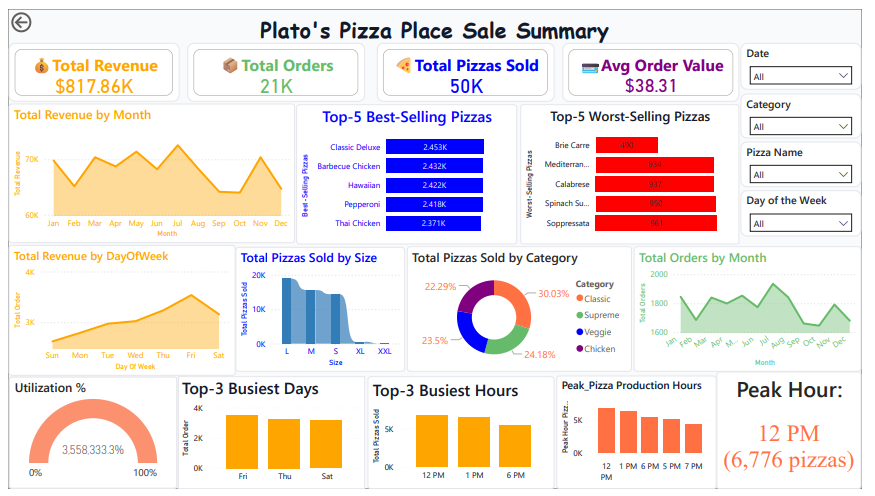

The page's visual inventory and layout, read from the dashboard file:
{"tool":"powerbi","page":{"name":"Page 1","canvas":[1280,720],"ordinal":0},"visuals":[{"type":"shape","box":[0,0,1280.2,720],"z":0},{"type":"textbox","box":[135.9,4.5,1008.3,71.7],"z":1000},{"type":"cardVisual","fields":{"Data":["order_details.Total Revenue"]},"box":[1.5,50.8,255.4,88.1],"z":2000},{"type":"slicer","title":"Date","fields":{"Values":["orders.Date"]},"box":[1097.9,50.8,180.7,70.2],"z":3000},{"type":"cardVisual","fields":{"Data":["order_details.Total Orders"]},"box":[268.9,50.8,265.9,88.1],"z":4000},{"type":"cardVisual","fields":{"Data":["order_details.Total Pizzas"]},"box":[552.7,50.8,265.9,88.1],"z":5000},{"type":"cardVisual","fields":{"Data":["order_details.💳Average Order Value"]},"box":[830.5,50.8,265.9,88.1],"z":6000},{"type":"lineChart","title":"Total Revenue by Month","fields":{"Y":["order_details.Total Revenue"],"Category":["orders.Month"]},"box":[1.5,141.9,428.7,209.1],"z":7000},{"type":"donutChart","fields":{"Category":["pizza_types (2).Category"],"Y":["order_details.Total Pizzas"]},"box":[597.5,355.5,337.6,188.2],"z":8000},{"type":"barChart","title":"Top-5 Best-Selling Pizzas","fields":{"Category":["pizza_types.Pizza Name"],"Y":["order_details.Total Pizzas"]},"box":[431.7,143.4,331.6,209.1],"z":9000},{"type":"barChart","title":"Top-5 Worst-Selling Pizzas","fields":{"Category":["pizza_types.Pizza Name"],"Y":["order_details.Total Pizzas"]},"box":[767.8,143.4,328.6,209.1],"z":10000},{"type":"ribbonChart","fields":{"Y":["order_details.Total Pizzas"],"Category":["pizzas.Size"]},"box":[340.6,357,253.9,186.7],"z":11000},{"type":"gauge","fields":{"Y":["orders.Utilization %"]},"box":[1.5,551.2,252.4,168.8],"z":12000},{"type":"lineChart","title":"Total Revenue by DayOfWeek","fields":{"Y":["orders.Total Order"],"Category":["orders.Day of the Week"]},"box":[1.5,354,339.1,195.7],"z":13000},{"type":"lineChart","fields":{"Y":["order_details.Total Orders"],"Category":["orders.Month"]},"box":[938.1,355.5,340.6,188.2],"z":14000},{"type":"slicer","title":"Category","fields":{"Values":["pizza_types.Category"]},"box":[1097.9,127,180.7,67.2],"z":15000},{"type":"slicer","title":"Day of the Week","fields":{"Values":["orders.DayOfWeek"]},"box":[1097.9,271.9,180.7,68.7],"z":16000},{"type":"slicer","title":"Pizza Name","fields":{"Values":["pizza_types.Pizza Name"]},"box":[1097.9,198.7,180.7,68.7],"z":17000},{"type":"actionButton","box":[0,0,100,40],"z":18000},{"type":"card","title":"Peak Hour:","fields":{"Values":["orders.Peak Hour – Title"]},"box":[1062.1,543.7,216.6,176.3],"z":19000},{"type":"clusteredColumnChart","title":"Top-3 Busiest Hours","fields":{"Category":["orders.Hour"],"Y":["order_details.Total Pizzas Sold"]},"box":[539.3,551.2,279.3,168.8],"z":20000},{"type":"clusteredColumnChart","title":"Top-3 Busiest Days","fields":{"Category":["orders.DayOfWeek"],"Y":["orders.Total Order"]},"box":[255.4,551.2,279.3,168.8],"z":21000},{"type":"clusteredColumnChart","title":"Peak_Pizza Production Hours","fields":{"Category":["orders.Hour"],"Y":["orders.Peak Hour Pizzas"]},"box":[821.6,549.7,240.5,170.3],"z":22000}]}

Visuals, with their boxes on the page's 1280x720 design canvas (x1, y1, x2, y2). These are canvas units, not pixel positions in the 875x496 screenshot, which may show the page scaled, cropped or inside an application window:
shape: pyautogui.locateOnScreen(0, 0, 1280, 720)
textbox: pyautogui.locateOnScreen(136, 4, 1144, 76)
cardVisual - order_details.Total Revenue: pyautogui.locateOnScreen(2, 51, 257, 139)
"Date" slicer: pyautogui.locateOnScreen(1098, 51, 1279, 121)
cardVisual - order_details.Total Orders: pyautogui.locateOnScreen(269, 51, 535, 139)
cardVisual - order_details.Total Pizzas: pyautogui.locateOnScreen(553, 51, 819, 139)
cardVisual - order_details.💳Average Order Value: pyautogui.locateOnScreen(830, 51, 1096, 139)
"Total Revenue by Month" lineChart: pyautogui.locateOnScreen(2, 142, 430, 351)
donutChart - pizza_types (2).Category x order_details.Total Pizzas: pyautogui.locateOnScreen(598, 356, 935, 544)
"Top-5 Best-Selling Pizzas" barChart: pyautogui.locateOnScreen(432, 143, 763, 352)
"Top-5 Worst-Selling Pizzas" barChart: pyautogui.locateOnScreen(768, 143, 1096, 352)
ribbonChart - order_details.Total Pizzas x pizzas.Size: pyautogui.locateOnScreen(341, 357, 594, 544)
gauge - orders.Utilization %: pyautogui.locateOnScreen(2, 551, 254, 720)
"Total Revenue by DayOfWeek" lineChart: pyautogui.locateOnScreen(2, 354, 341, 550)
lineChart - order_details.Total Orders x orders.Month: pyautogui.locateOnScreen(938, 356, 1279, 544)
"Category" slicer: pyautogui.locateOnScreen(1098, 127, 1279, 194)
"Day of the Week" slicer: pyautogui.locateOnScreen(1098, 272, 1279, 341)
"Pizza Name" slicer: pyautogui.locateOnScreen(1098, 199, 1279, 267)
actionButton: pyautogui.locateOnScreen(0, 0, 100, 40)
"Peak Hour:" card: pyautogui.locateOnScreen(1062, 544, 1279, 720)
"Top-3 Busiest Hours" clusteredColumnChart: pyautogui.locateOnScreen(539, 551, 819, 720)
"Top-3 Busiest Days" clusteredColumnChart: pyautogui.locateOnScreen(255, 551, 535, 720)
"Peak_Pizza Production Hours" clusteredColumnChart: pyautogui.locateOnScreen(822, 550, 1062, 720)
